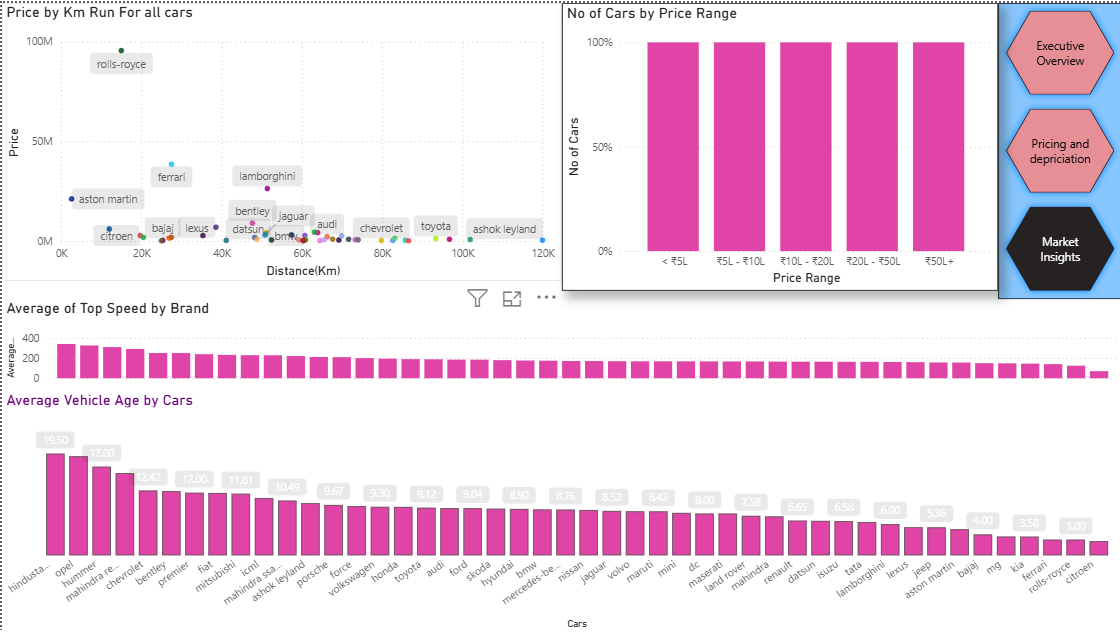

The dashboard page shown, as its layout file describes it:
{"tool":"powerbi","page":{"name":"Market Insights","canvas":[1280,720],"ordinal":2},"visuals":[{"type":"pageNavigator","box":[1138,0,142,338],"z":0},{"type":"bookmarkNavigator","box":[0,0,600,50],"z":1000},{"type":"columnChart","title":"Average Vehicle Age by Cars","fields":{"Category":["Clean_data.oem"],"Y":["Avg(Clean_data.Vehicle_Age)"]},"box":[0,442.9,1280,277.1],"z":2000},{"type":"columnChart","fields":{"Y":["Avg(Clean_data.Top Speed)"],"Category":["Clean_data.oem"]},"box":[0,338.6,1280,104.3],"z":3000},{"type":"scatterChart","title":"Price by Km Run For all cars","fields":{"X":["Avg(Clean_data.km)"],"Y":["Avg(Clean_data.listed_price)"],"Category":["Clean_data.oem"]},"box":[0,0,640,318.6],"z":4000},{"type":"hundredPercentStackedColumnChart","fields":{"Category":["Clean_data.Price Band"],"Y":["CountNonNull(Clean_data.oem)"]},"box":[640,0,498.6,328.6],"z":5000}]}

Visuals, with their boxes in screenshot pixels (x1, y1, x2, y2), scaled from the page's 1280x720 canvas onto the 1120x632 screenshot:
pageNavigator: (x1=996, y1=0, x2=1119, y2=297)
bookmarkNavigator: (x1=0, y1=0, x2=525, y2=44)
"Average Vehicle Age by Cars" columnChart: (x1=0, y1=389, x2=1119, y2=631)
columnChart - Avg(Clean_data.Top Speed) x Clean_data.oem: (x1=0, y1=297, x2=1119, y2=389)
"Price by Km Run For all cars" scatterChart: (x1=0, y1=0, x2=560, y2=280)
hundredPercentStackedColumnChart - Clean_data.Price Band x CountNonNull(Clean_data.oem): (x1=560, y1=0, x2=996, y2=288)
